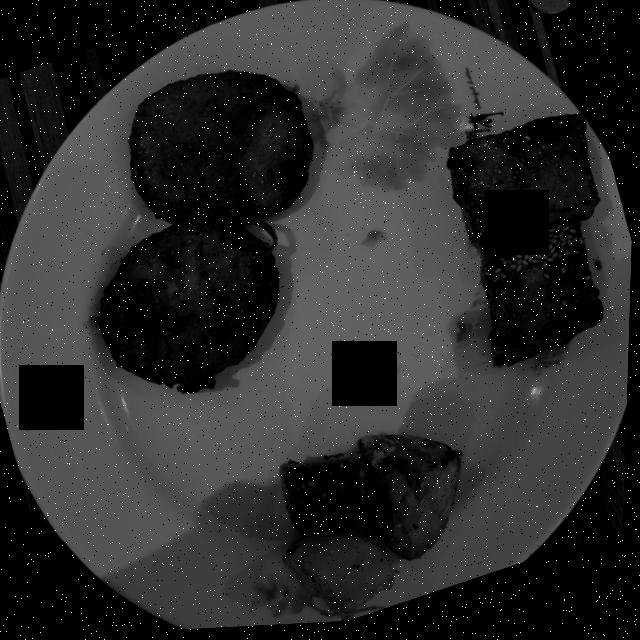coin: (522, 0, 570, 21)
creamy tofu: (448, 120, 604, 372)
fish cake: (101, 73, 314, 395)
fried potato: (282, 439, 464, 625)
